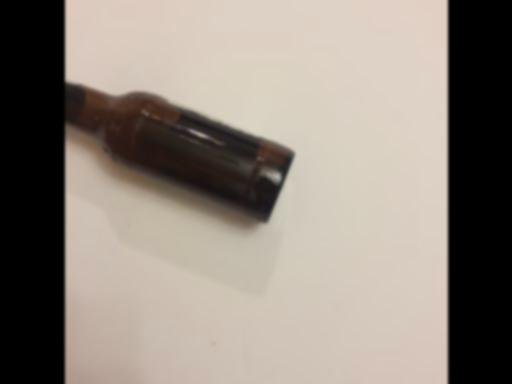alcohol: (64, 76, 294, 224)
glass: (64, 76, 294, 224)
sodocalcique: (64, 76, 294, 224)
